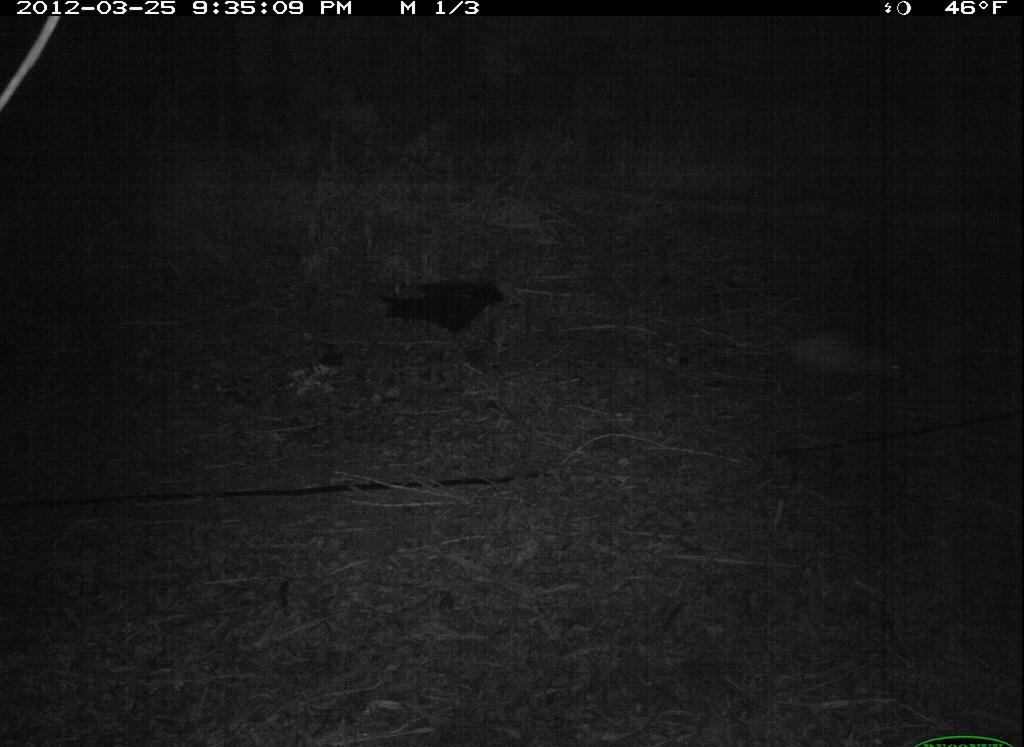opossum: (738, 300, 918, 397)
